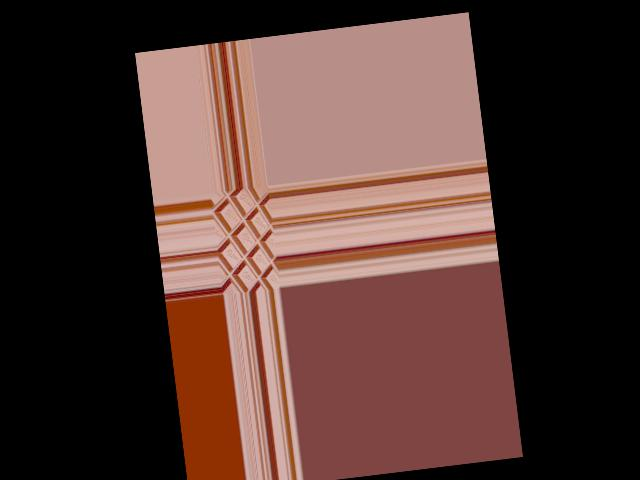chocolate: (209, 185, 278, 292)
